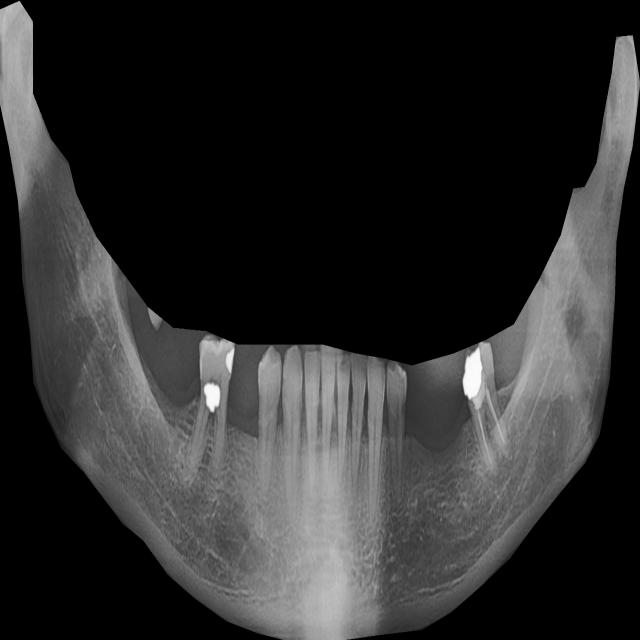mandibula: (0, 1, 640, 640)
